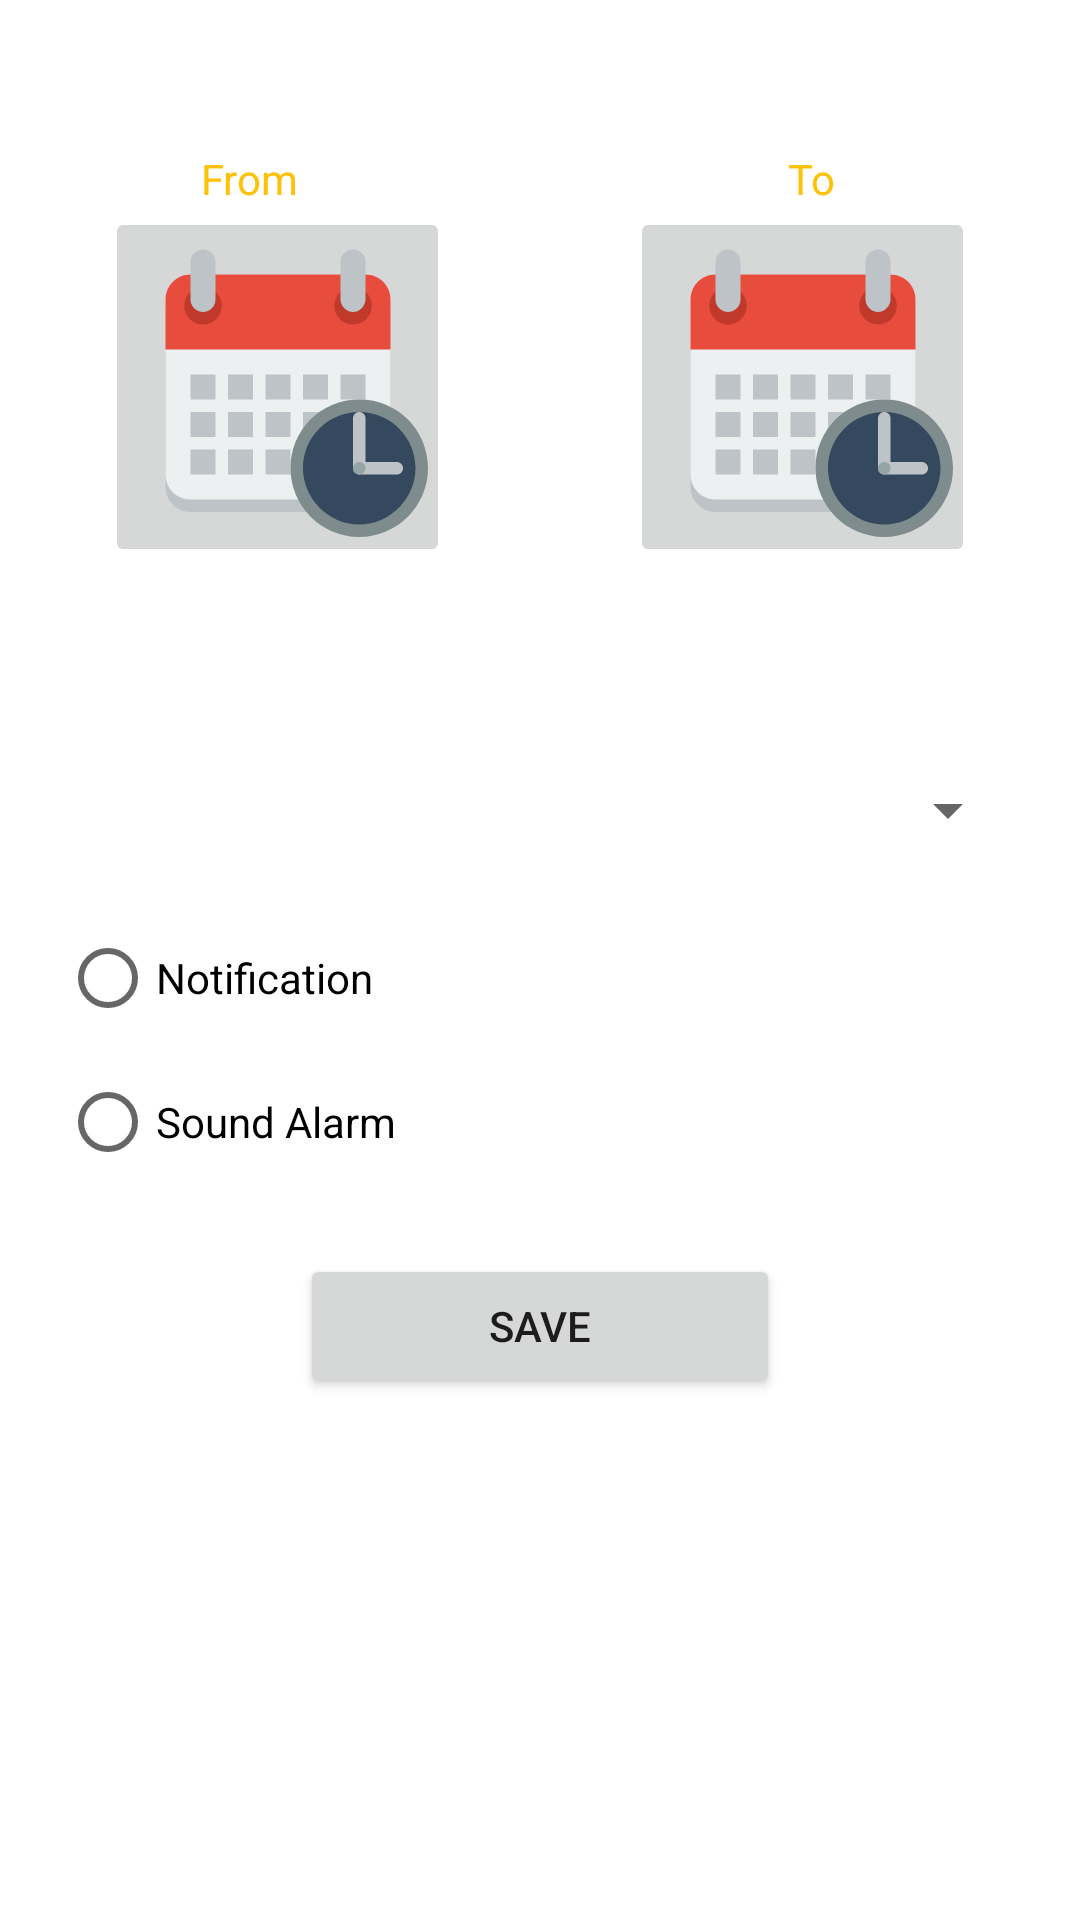

Point at icon controls on the screen. Image size 1080 × 1920, points as (x=x, y=y).
iconfinder calendar clock: (x=277, y=387), (x=802, y=387)
